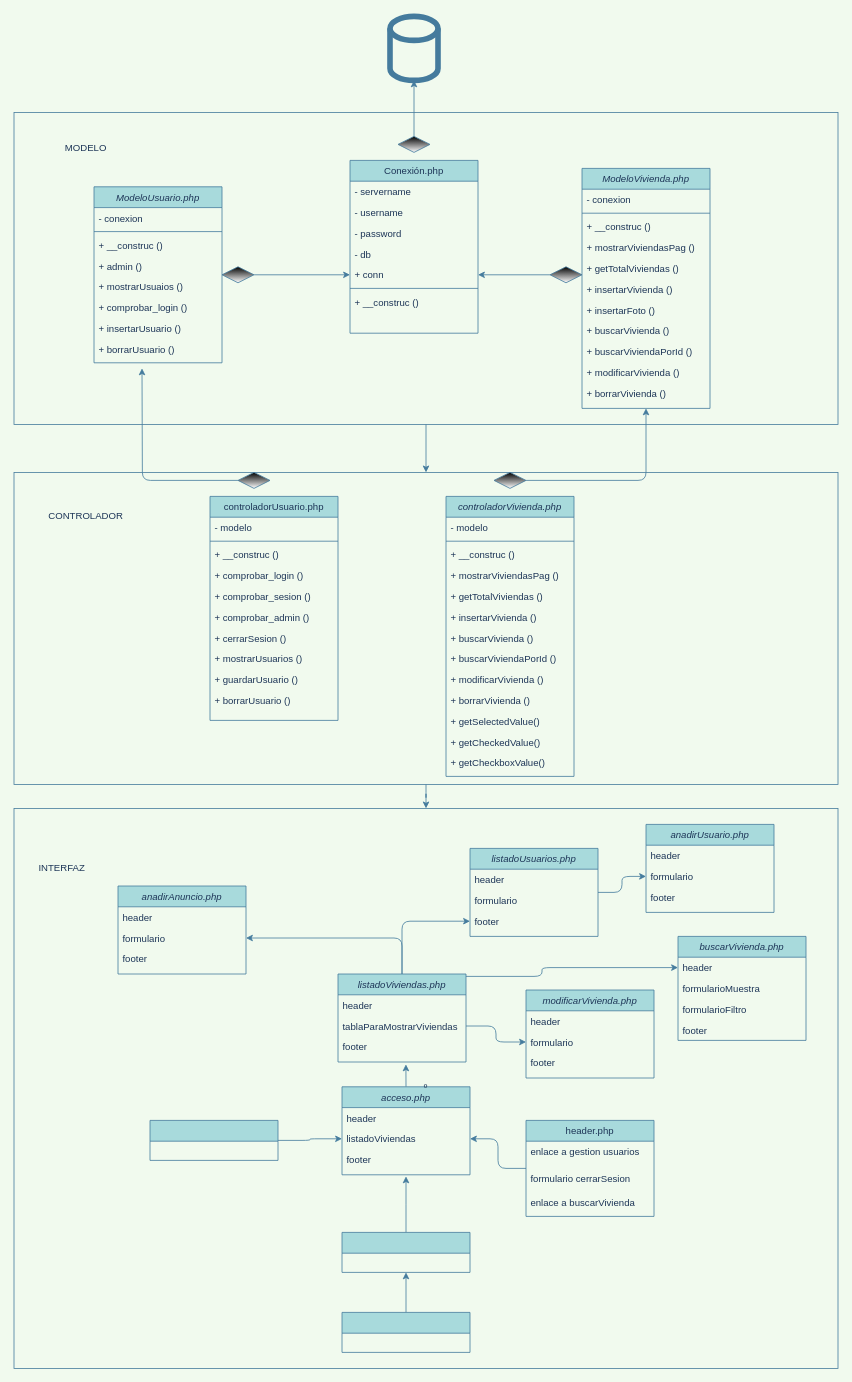
Some shapes in this 852 by 1382 pixel diagram are drawn without their labels. Here are the shapes that lost their labels. From the top down, the centre of each, then its label:
At (x=413, y=48): "BD".
At (x=213, y=1140): "footer.php".
At (x=405, y=1252): "login.php".
At (x=405, y=1332): "index.php".
